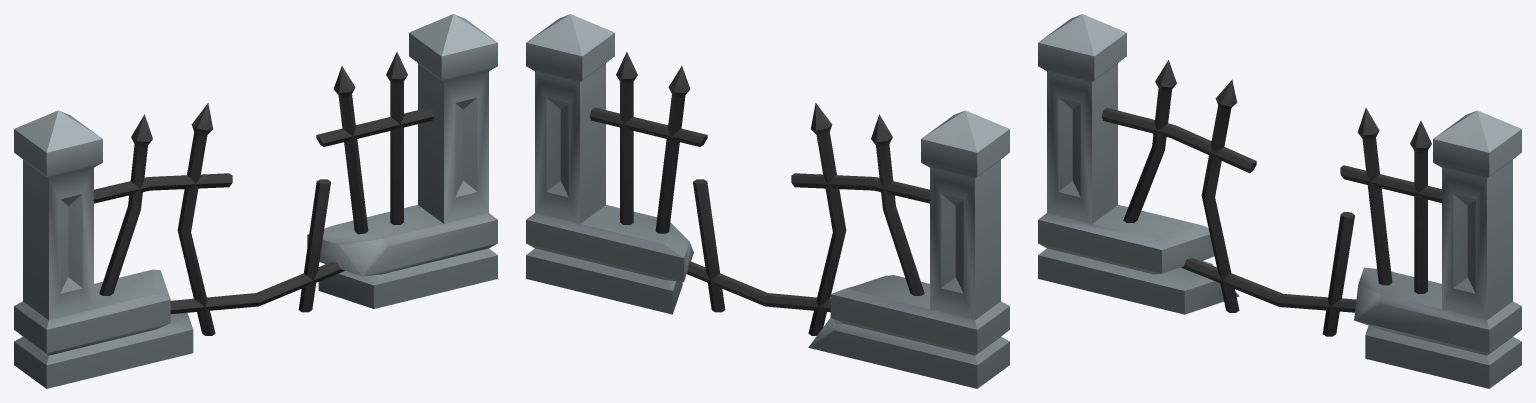
The model's file is kay-grade-quebrada.gltf.
3 views of the same model, side by side, from view 1: azimuth 30°, elevation 25°; view 2: azimuth 150°, elevation 25°; view 3: azimuth 330°, elevation 25° (orthographic).
Visible parts, largest first — view 1: fence_broken; view 2: fence_broken; view 3: fence_broken.
Part boxes in pixels (x1,y1,x2,y2): fence_broken: (14, 14, 497, 388); fence_broken: (526, 14, 1009, 388); fence_broken: (1038, 14, 1521, 388).
Size of the model in its own units: 2 by 1.1 by 0.25.
1 material, 1 textured.
